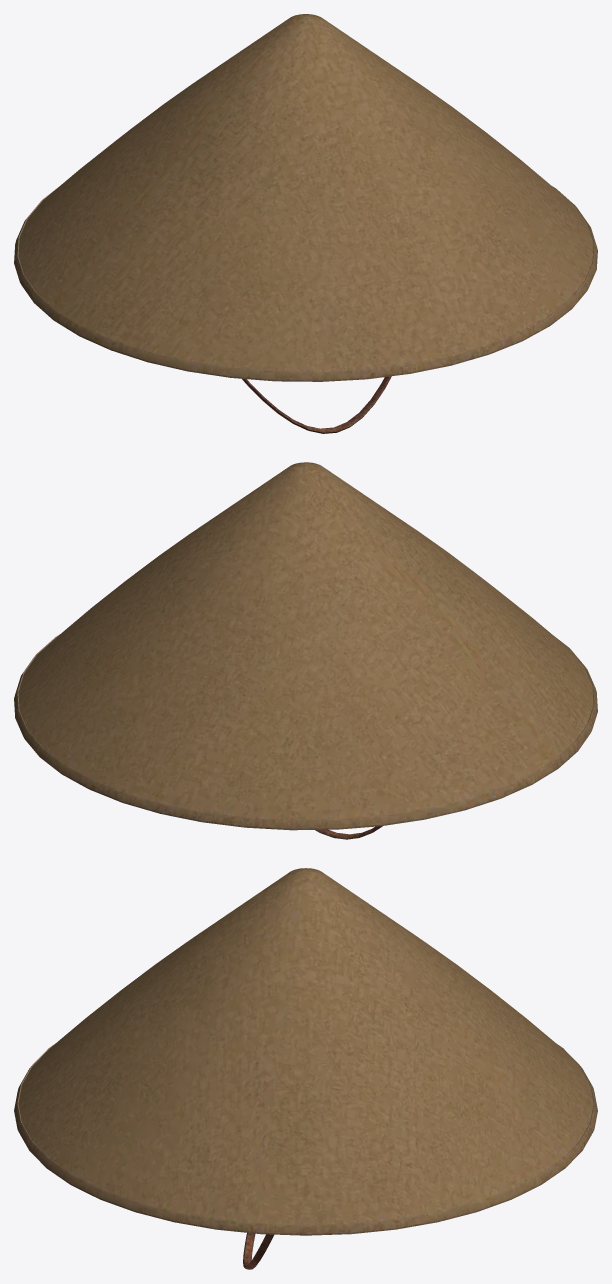
File: asian_conical_hat_compressed.glb
3 views of the same model, one above another, from view 1: azimuth 30°, elevation 25°; view 2: azimuth 150°, elevation 25°; view 3: azimuth 270°, elevation 25° (orthographic).
Parts seen in each view (by area): view 1: Object_4; view 2: Object_4; view 3: Object_4.
Part boxes in pixels (bbox=[...]): Object_4: bbox=[14, 14, 597, 433]; Object_4: bbox=[14, 462, 597, 839]; Object_4: bbox=[14, 868, 597, 1269].
Bounding box in the file's own units: 0.5545 × 0.412 × 0.5545.
1 material, 1 textured.
